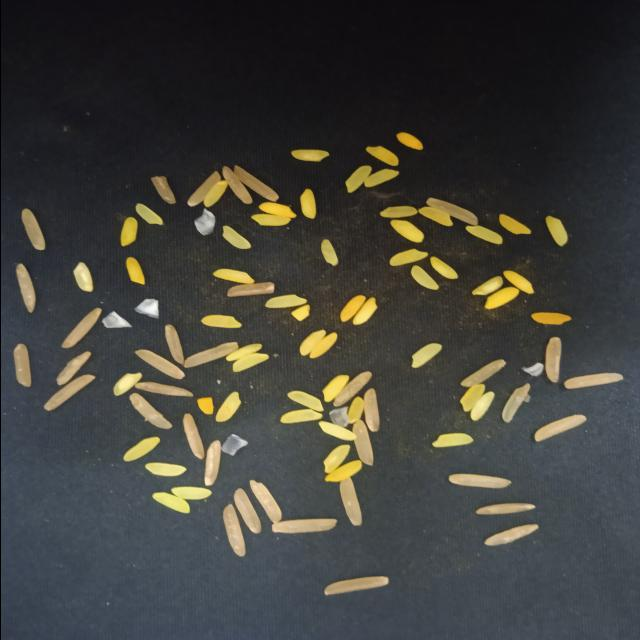Broken: (42, 374, 94, 410), (232, 166, 278, 202), (128, 393, 172, 429), (61, 308, 100, 348), (134, 350, 185, 380), (248, 479, 281, 524), (182, 342, 238, 368), (425, 198, 477, 226), (534, 414, 586, 442), (332, 371, 372, 407), (458, 359, 506, 387), (221, 504, 245, 558), (233, 488, 261, 534), (55, 351, 91, 386), (186, 170, 220, 207), (322, 576, 388, 595), (483, 524, 539, 546), (220, 166, 252, 204), (501, 383, 529, 423), (339, 477, 361, 527), (562, 372, 622, 390), (181, 413, 204, 459), (270, 518, 336, 534), (446, 473, 512, 489), (350, 420, 372, 466), (20, 209, 44, 250), (15, 264, 35, 312), (122, 437, 160, 462), (134, 382, 192, 398), (324, 459, 362, 482), (409, 342, 442, 368), (286, 390, 324, 412), (151, 492, 189, 514), (12, 343, 30, 388), (202, 441, 220, 486), (322, 444, 349, 474), (163, 324, 183, 364), (321, 374, 349, 402), (214, 392, 240, 422), (389, 220, 424, 242), (483, 287, 518, 309), (226, 282, 274, 298), (502, 270, 534, 294), (318, 420, 356, 440), (298, 329, 326, 356), (469, 392, 494, 422), (544, 338, 561, 382), (474, 502, 536, 514), (344, 165, 371, 192), (150, 176, 176, 204), (202, 180, 228, 208), (308, 332, 336, 358), (351, 297, 377, 325), (458, 384, 484, 412), (409, 265, 438, 290), (221, 225, 251, 249), (112, 372, 142, 396), (417, 206, 453, 226), (362, 388, 378, 432), (340, 295, 366, 322), (464, 226, 502, 244), (232, 353, 268, 372), (544, 216, 566, 247), (364, 146, 398, 166), (364, 168, 398, 188), (388, 249, 428, 266), (212, 268, 254, 284), (280, 408, 322, 424), (225, 344, 261, 362), (498, 214, 530, 234), (470, 276, 502, 296), (257, 202, 296, 218), (134, 203, 162, 225), (429, 257, 457, 279), (72, 262, 92, 292), (200, 314, 242, 328), (264, 294, 306, 308), (144, 463, 186, 477), (431, 433, 473, 447), (170, 486, 212, 499), (119, 216, 137, 246), (125, 257, 144, 285), (394, 132, 422, 150), (346, 396, 364, 424), (530, 312, 571, 324), (320, 239, 338, 266), (250, 214, 290, 226), (300, 188, 316, 218), (290, 150, 328, 162), (378, 206, 416, 218), (290, 304, 310, 322), (196, 396, 212, 414)
